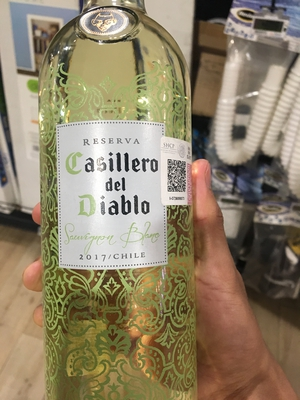casillero del diablo sauvignon blanc: (35, 2, 207, 400)
